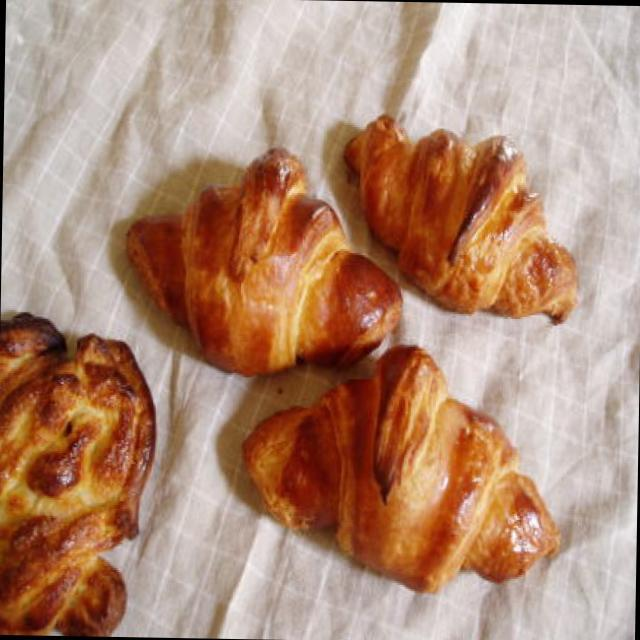Croissant: (235, 342, 578, 594), (130, 130, 398, 378), (340, 109, 586, 332)
